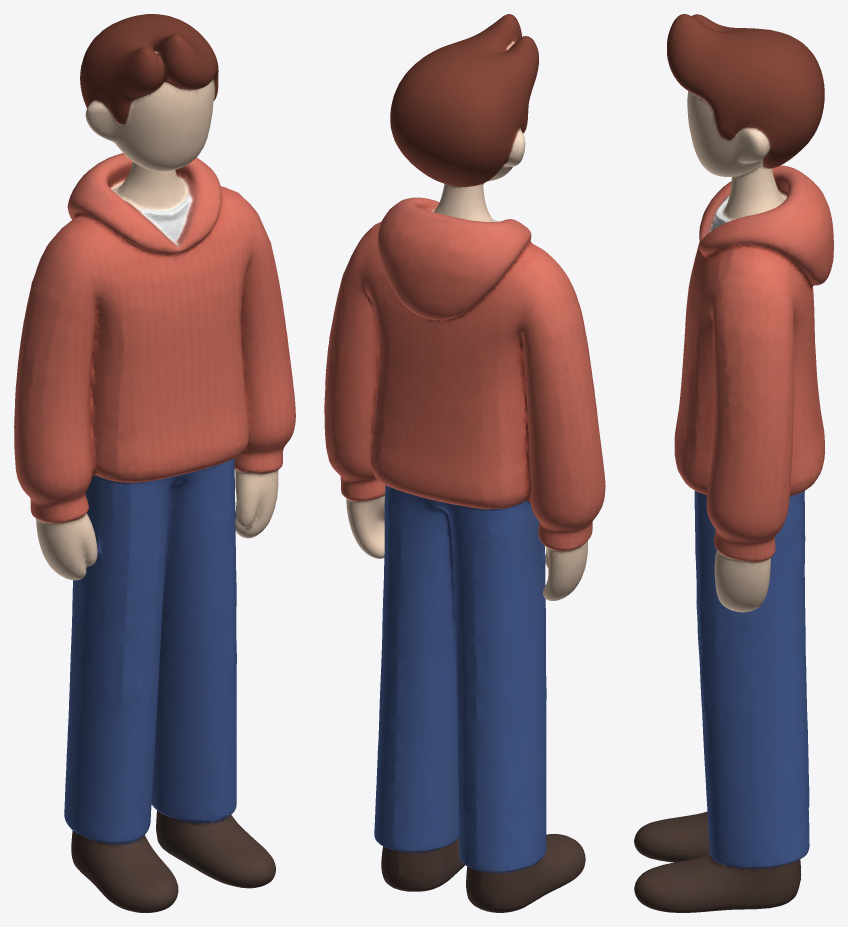
Rendered from Meshy_AI_Faceless_Boy_in_Coral_1012210722_texture.glb.
3 renders of one model, left to right at view 1: azimuth 30°, elevation 25°; view 2: azimuth 150°, elevation 25°; view 3: azimuth 270°, elevation 25°, orthographic.
Size of the model in its own units: 0.6239 by 1.9 by 0.401.
1 material, 1 textured.
